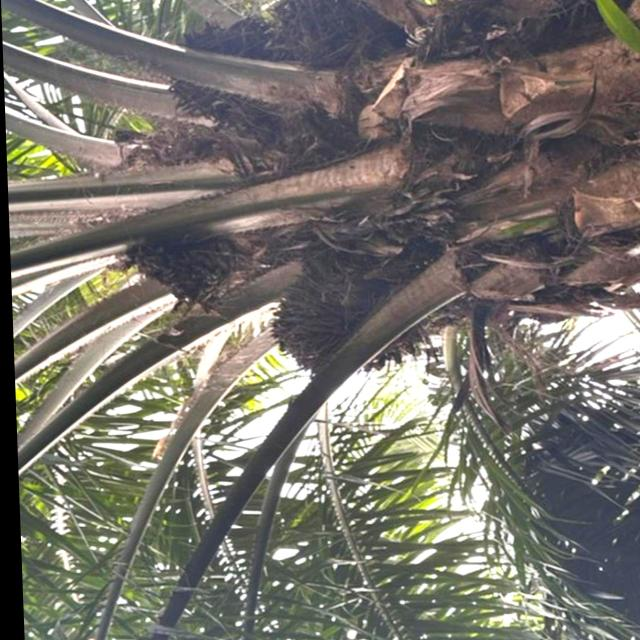almost: (259, 272, 422, 376), (272, 0, 388, 80)
